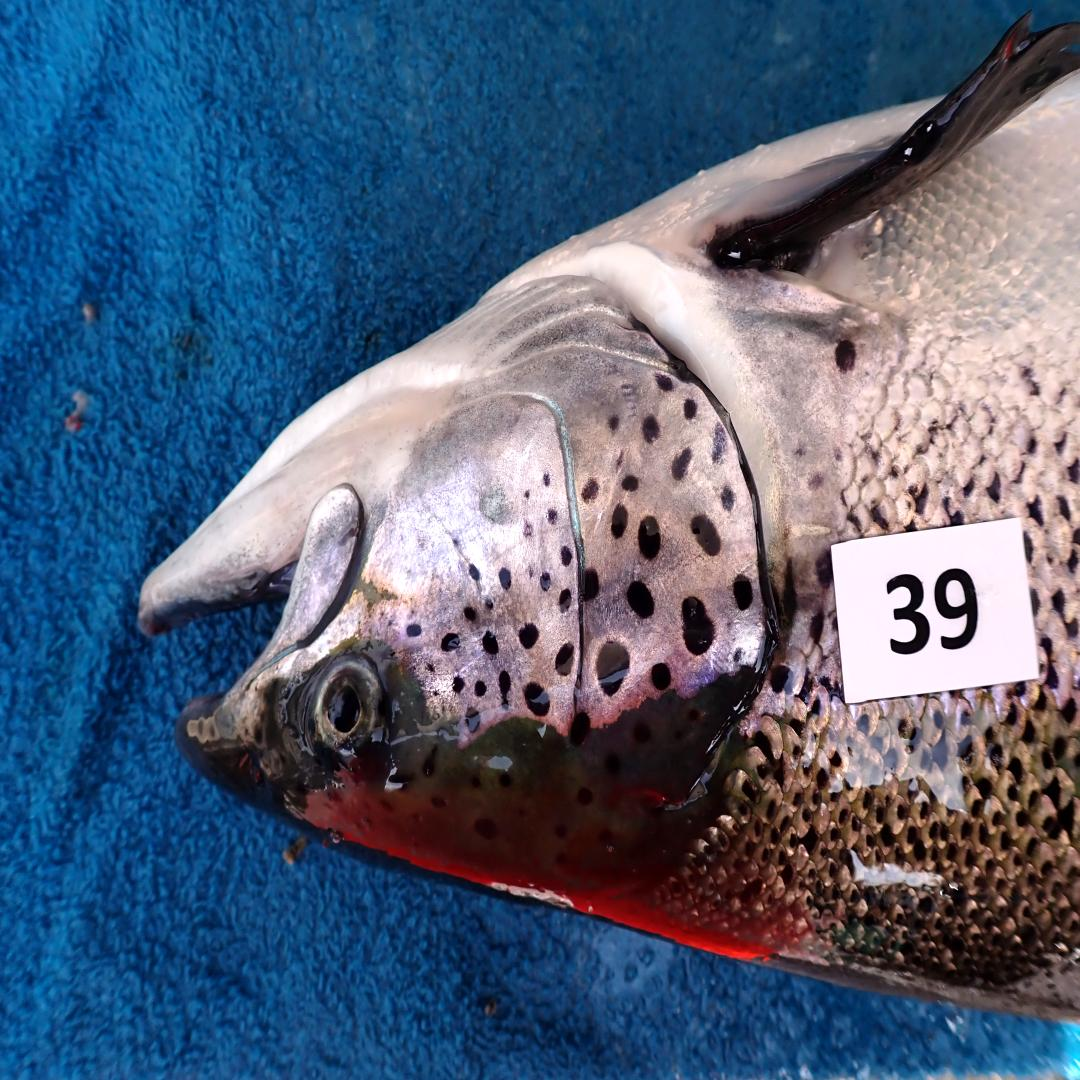roi: (363, 262, 771, 748)
